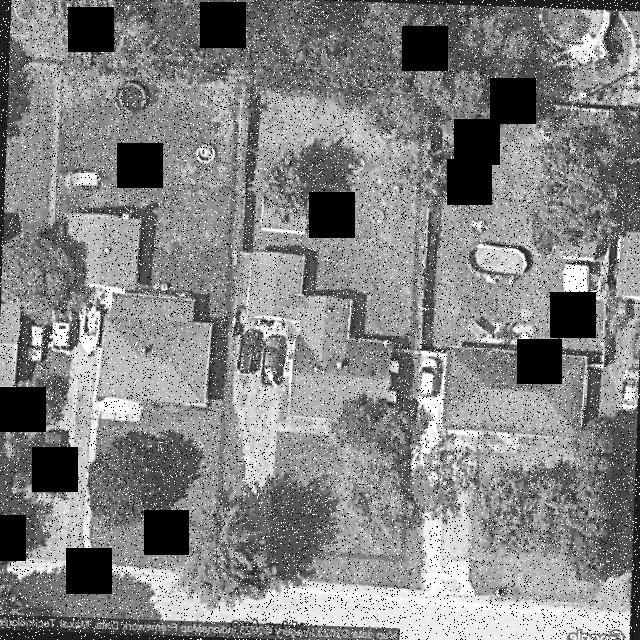Driveway: (237, 308, 328, 542)
Extra Driveway: (239, 550, 268, 579), (616, 572, 629, 609)
Extra Lawn: (266, 551, 403, 589), (212, 546, 240, 574)
House: (248, 251, 399, 417)
Other: (261, 165, 308, 234)
